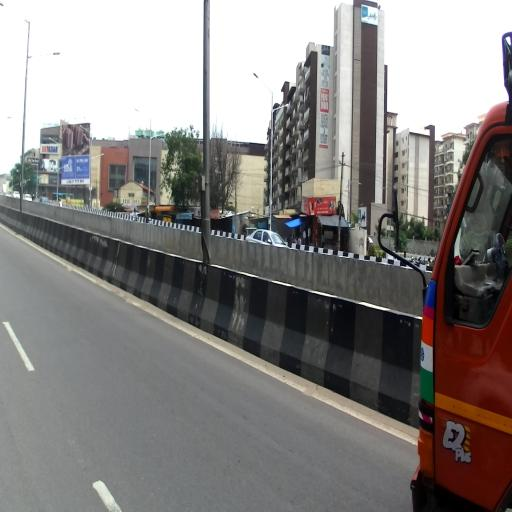street_light_0: (0, 2, 30, 27), (252, 70, 274, 97), (134, 106, 152, 122), (27, 52, 61, 60), (272, 104, 290, 116), (150, 132, 166, 142), (80, 124, 93, 136), (8, 116, 26, 124), (90, 153, 104, 162), (3, 153, 14, 164), (49, 136, 60, 146), (30, 142, 39, 152), (58, 164, 68, 171), (36, 173, 46, 179), (20, 179, 30, 185), (12, 182, 19, 188)
